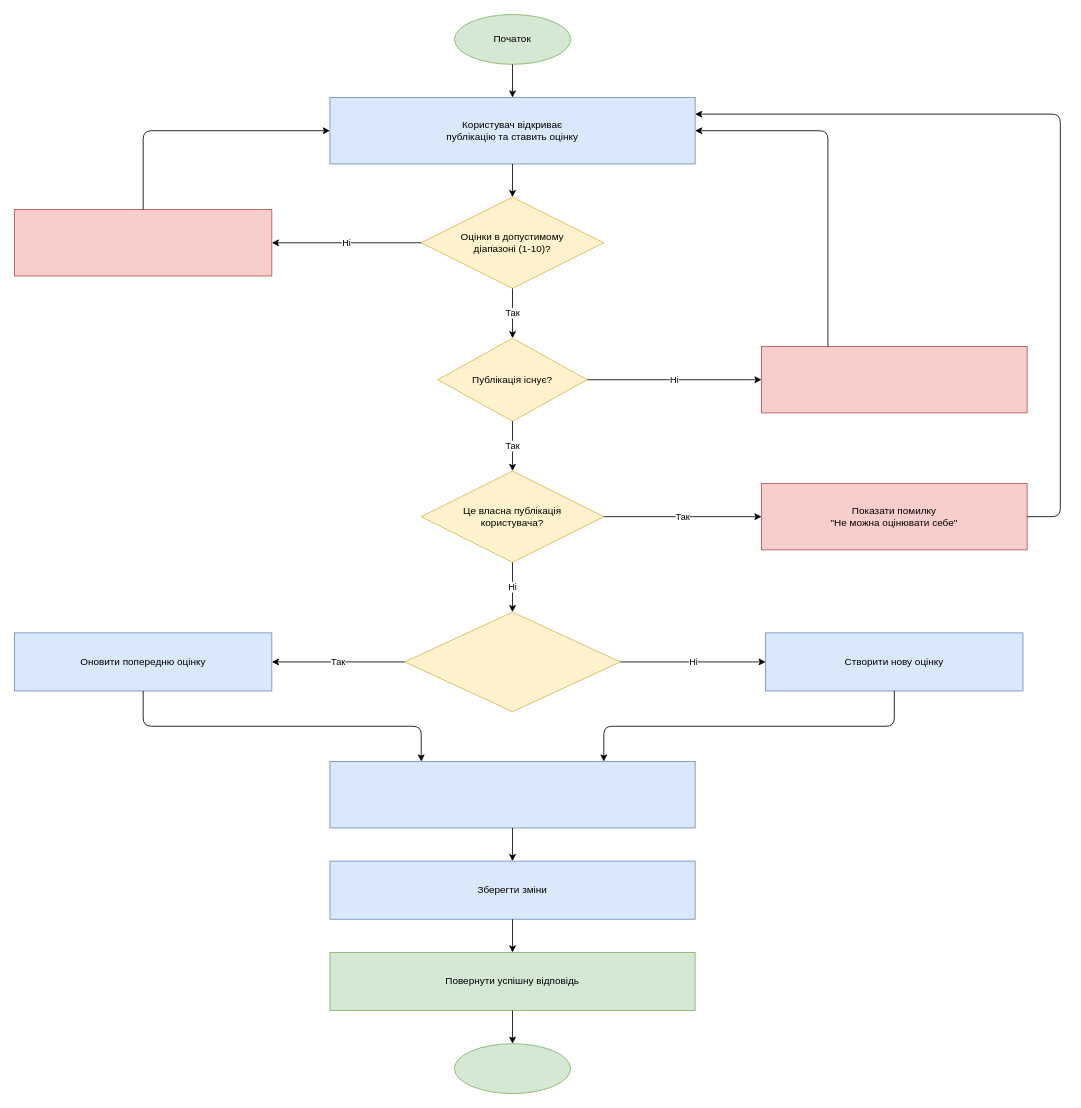
This 1081x1108 diagram has some shape labels left out. Each missing label, with the centre of its shape:
Користувач уже раніше оцінював цю публікацію?: (512,661)
Кінець: (512,1068)
Перерахувати агреговані показники публікації: (512,794)
Показати помилки введення та попросити виправити: (143,242)
Показати помилку "Публікацію не знайдено": (894,379)
